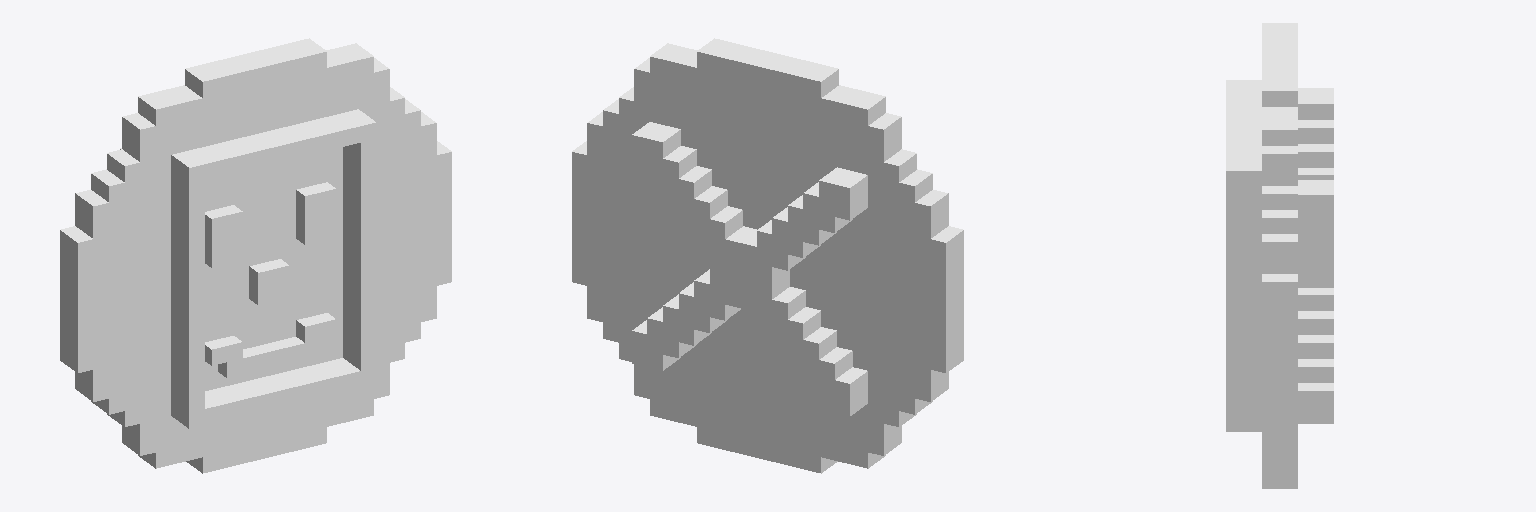
File: Coin-2.obj
3 views of the same model, side by side, from view 1: azimuth 30°, elevation 25°; view 2: azimuth 150°, elevation 25°; view 3: azimuth 270°, elevation 25° (orthographic).
Visible parts, largest first — view 1: object 1; view 2: object 1; view 3: object 1.
Part boxes in pixels (x1,y1,x2,y2): object 1: (60, 38, 451, 473); object 1: (572, 38, 963, 473); object 1: (1226, 23, 1333, 488).
Size of the model in its own units: 2.4 by 2.4 by 0.6.